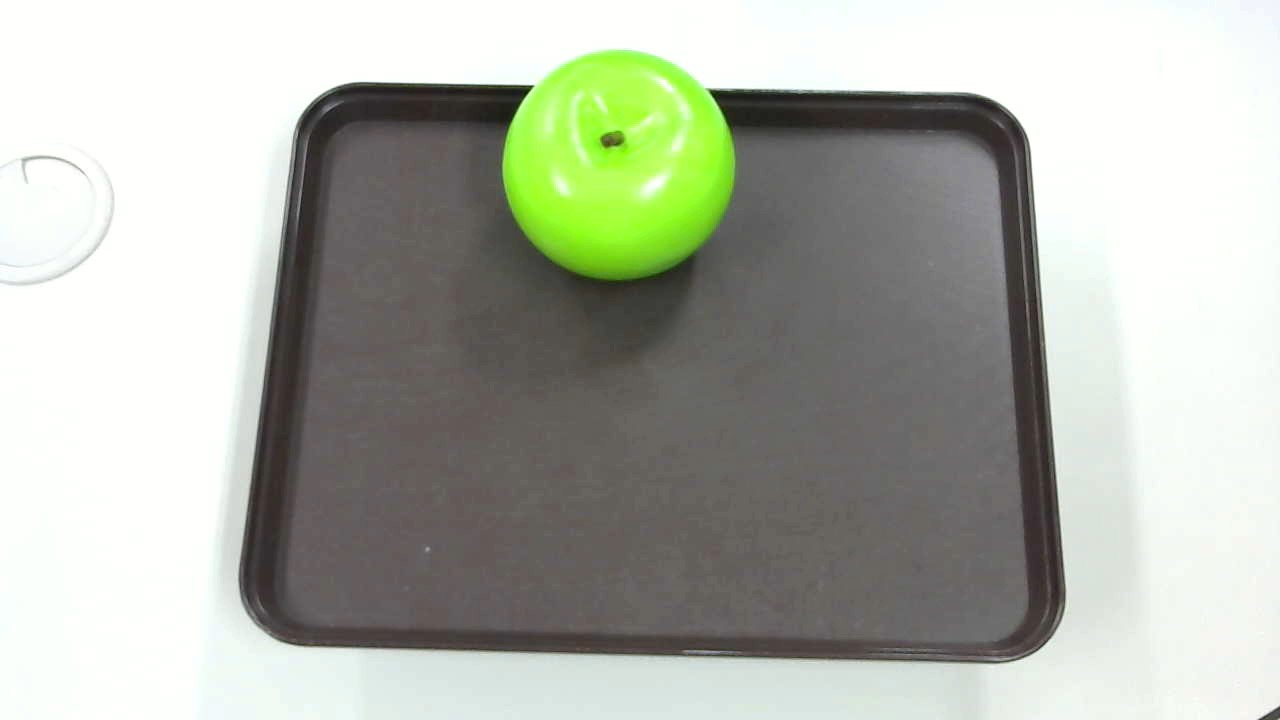green apple: (496, 47, 739, 285)
